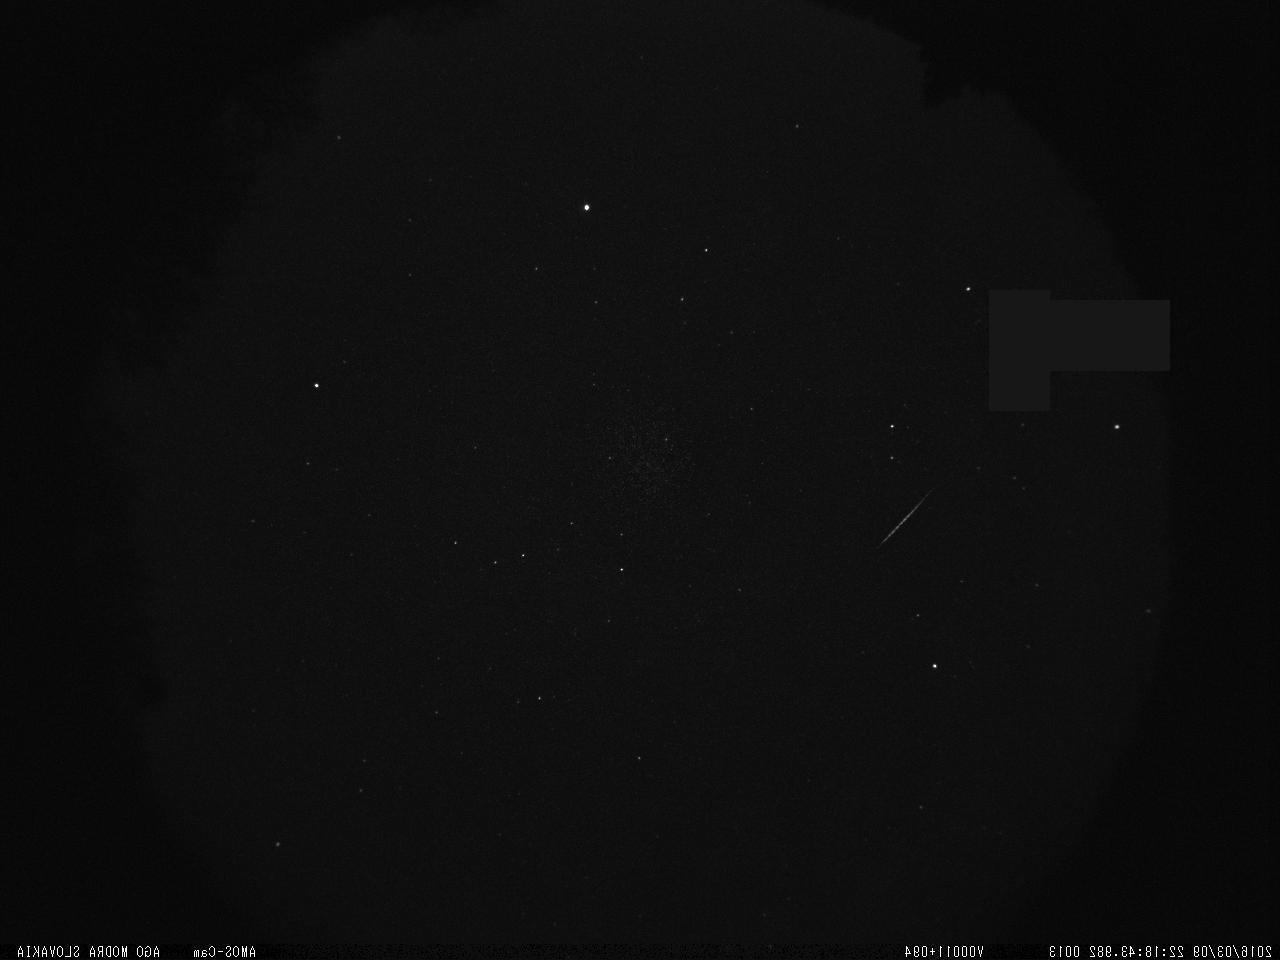meteor: (869, 479, 939, 560)
